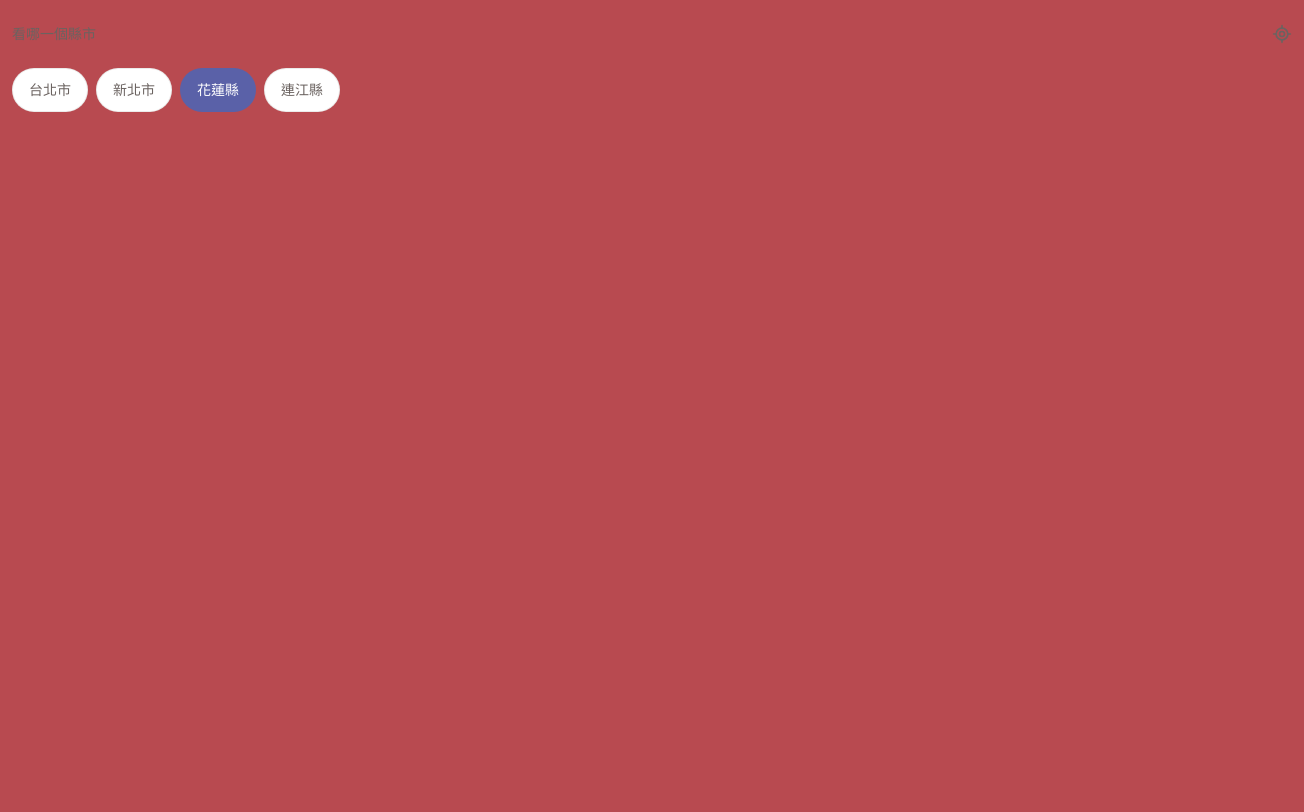
Test: CountyPicker 的定位 › 定位到的縣市不在資料裡就說出來，不靜默
The width and height of the screenshot is (1304, 812).
What coordinates should you click on to do the following:
click the button named "用目前位置選縣市"
I would click on:
 (1276, 34)
Its box is [1260,12,1292,56].
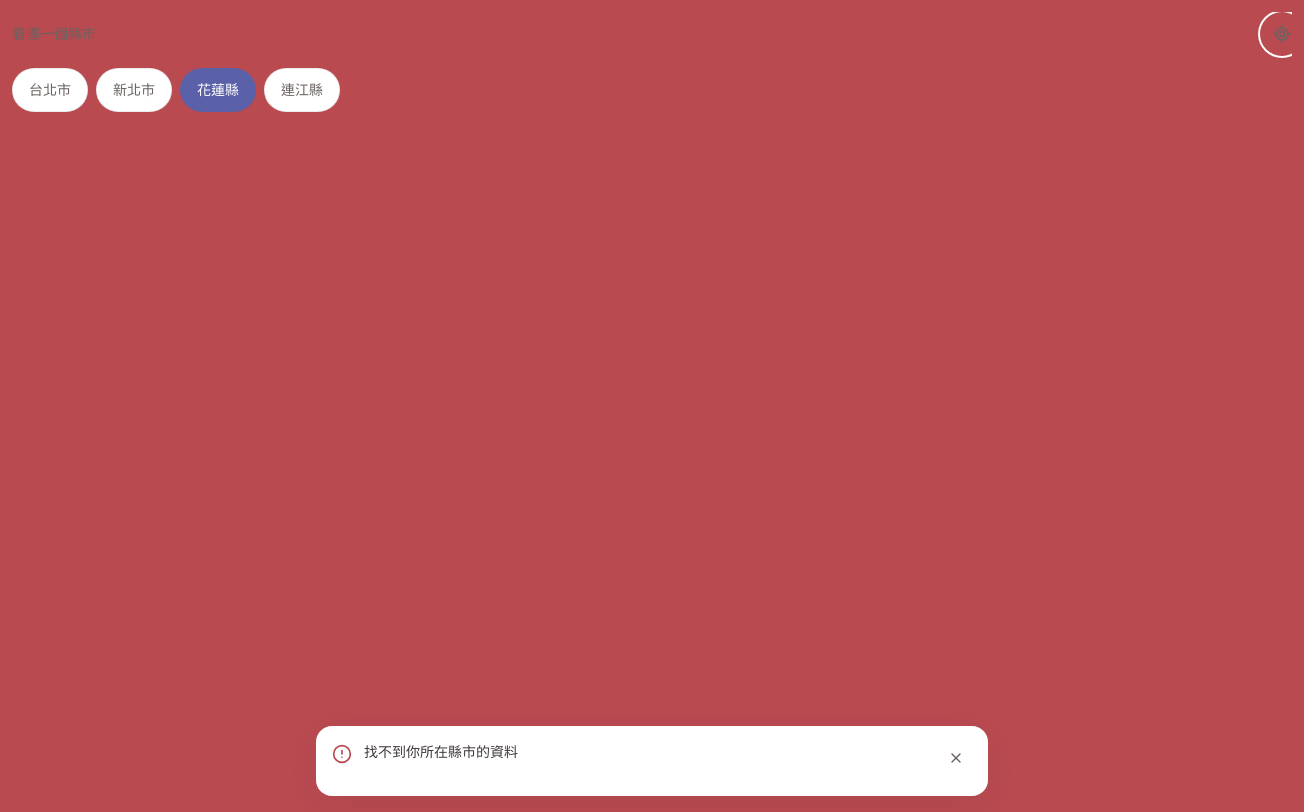
expect the text "找不到你所在縣市的資料" is shown: met, box [364,743,518,760]
